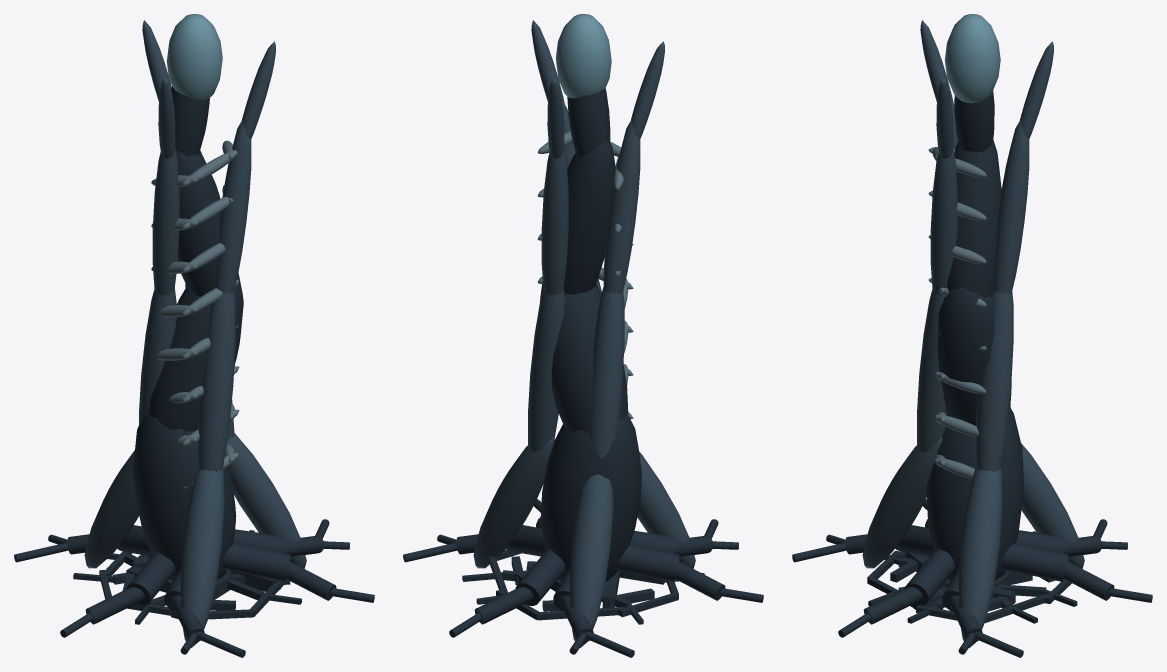
Rendered from CMU3DHiveHivePylonXeno.glb.
The picture shows the model from 3 angles, left to right: view 1: azimuth 30°, elevation 25°; view 2: azimuth 150°, elevation 25°; view 3: azimuth 270°, elevation 25°; orthographic projection.
Visible parts, largest first — view 1: twisted pylon buttress (×10), crooked pylon spine (×4), sinuous anchoring root (×8), pylon sensory crown, overlapping vertebral ridge (×2); view 2: twisted pylon buttress (×10), crooked pylon spine (×4), sinuous anchoring root (×8), pylon sensory crown, interwoven root loop; view 3: twisted pylon buttress (×10), crooked pylon spine (×4), sinuous anchoring root (×8), pylon sensory crown, interwoven root loop.
Boxes of the visible parts, x1,y1,x2,y2 form: twisted pylon buttress (×10): [84, 20, 306, 647]; crooked pylon spine (×4): [133, 86, 243, 581]; sinuous anchoring root (×8): [85, 525, 336, 642]; pylon sensory crown: [166, 14, 222, 100]; overlapping vertebral ridge (×2): [182, 150, 237, 229]; twisted pylon buttress (×10): [473, 20, 695, 647]; crooked pylon spine (×4): [540, 88, 641, 581]; sinuous anchoring root (×8): [474, 525, 725, 642]; pylon sensory crown: [555, 14, 611, 98]; interwoven root loop: [618, 593, 678, 617]; twisted pylon buttress (×10): [862, 20, 1084, 647]; crooked pylon spine (×4): [926, 90, 1024, 580]; sinuous anchoring root (×8): [863, 525, 1114, 642]; pylon sensory crown: [945, 14, 1000, 103]; interwoven root loop: [985, 593, 1049, 622].
Size of the model in its own units: 1.06 by 1.88 by 1.06.
